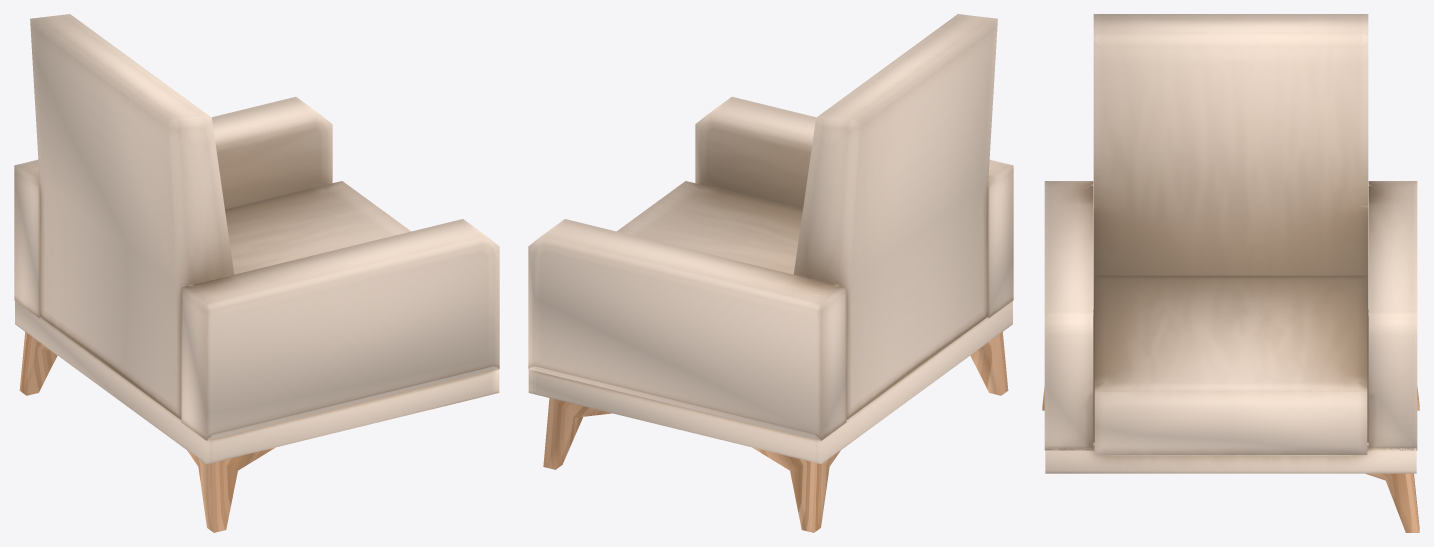
The model's file is armchairyellow.glb.
The picture shows the model from 3 angles, left to right: view 1: azimuth 30°, elevation 25°; view 2: azimuth 150°, elevation 25°; view 3: azimuth 270°, elevation 25°; orthographic projection. The views are drawn at different scales.
Visible parts, largest first — view 1: Cube.013_16; view 2: Cube.013_16; view 3: Cube.013_16.
Part boxes in pixels (x1,y1,x2,y2): Cube.013_16: [14, 14, 499, 532]; Cube.013_16: [528, 14, 1013, 532]; Cube.013_16: [1042, 14, 1419, 532].
Bounding box in the file's own units: 0.7228 × 0.8754 × 0.7805.
1 material, 1 textured.
